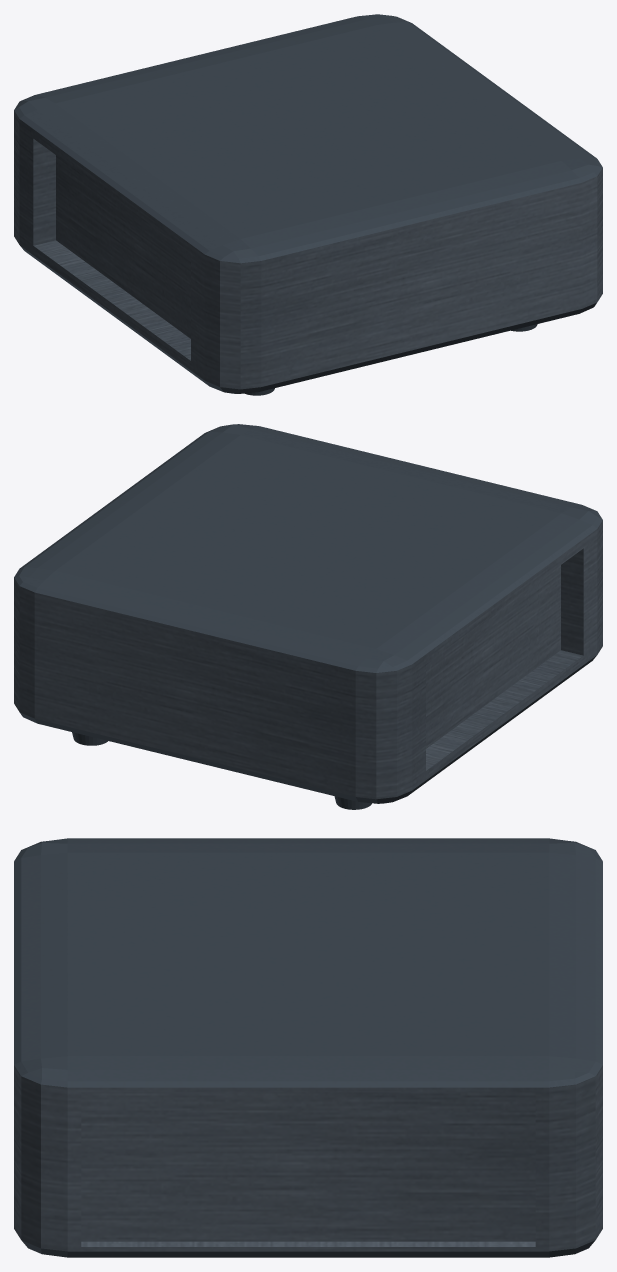
Rendered from 05_minipc.glb.
The picture shows the model from 3 angles, top to bottom: view 1: azimuth 30°, elevation 25°; view 2: azimuth 150°, elevation 25°; view 3: azimuth 270°, elevation 25°; orthographic projection. The views are drawn at different scales.
Visible parts, largest first — view 1: Mini_PC; view 2: Mini_PC; view 3: Mini_PC.
Part boxes in pixels (<box>): Mini_PC: <box>14,14,602,395</box>; Mini_PC: <box>14,424,602,809</box>; Mini_PC: <box>14,838,602,1257</box>.
Size of the model in its own units: 0.2245 by 0.0888 by 0.2245.
Materials: 2 (2 with a texture image).
